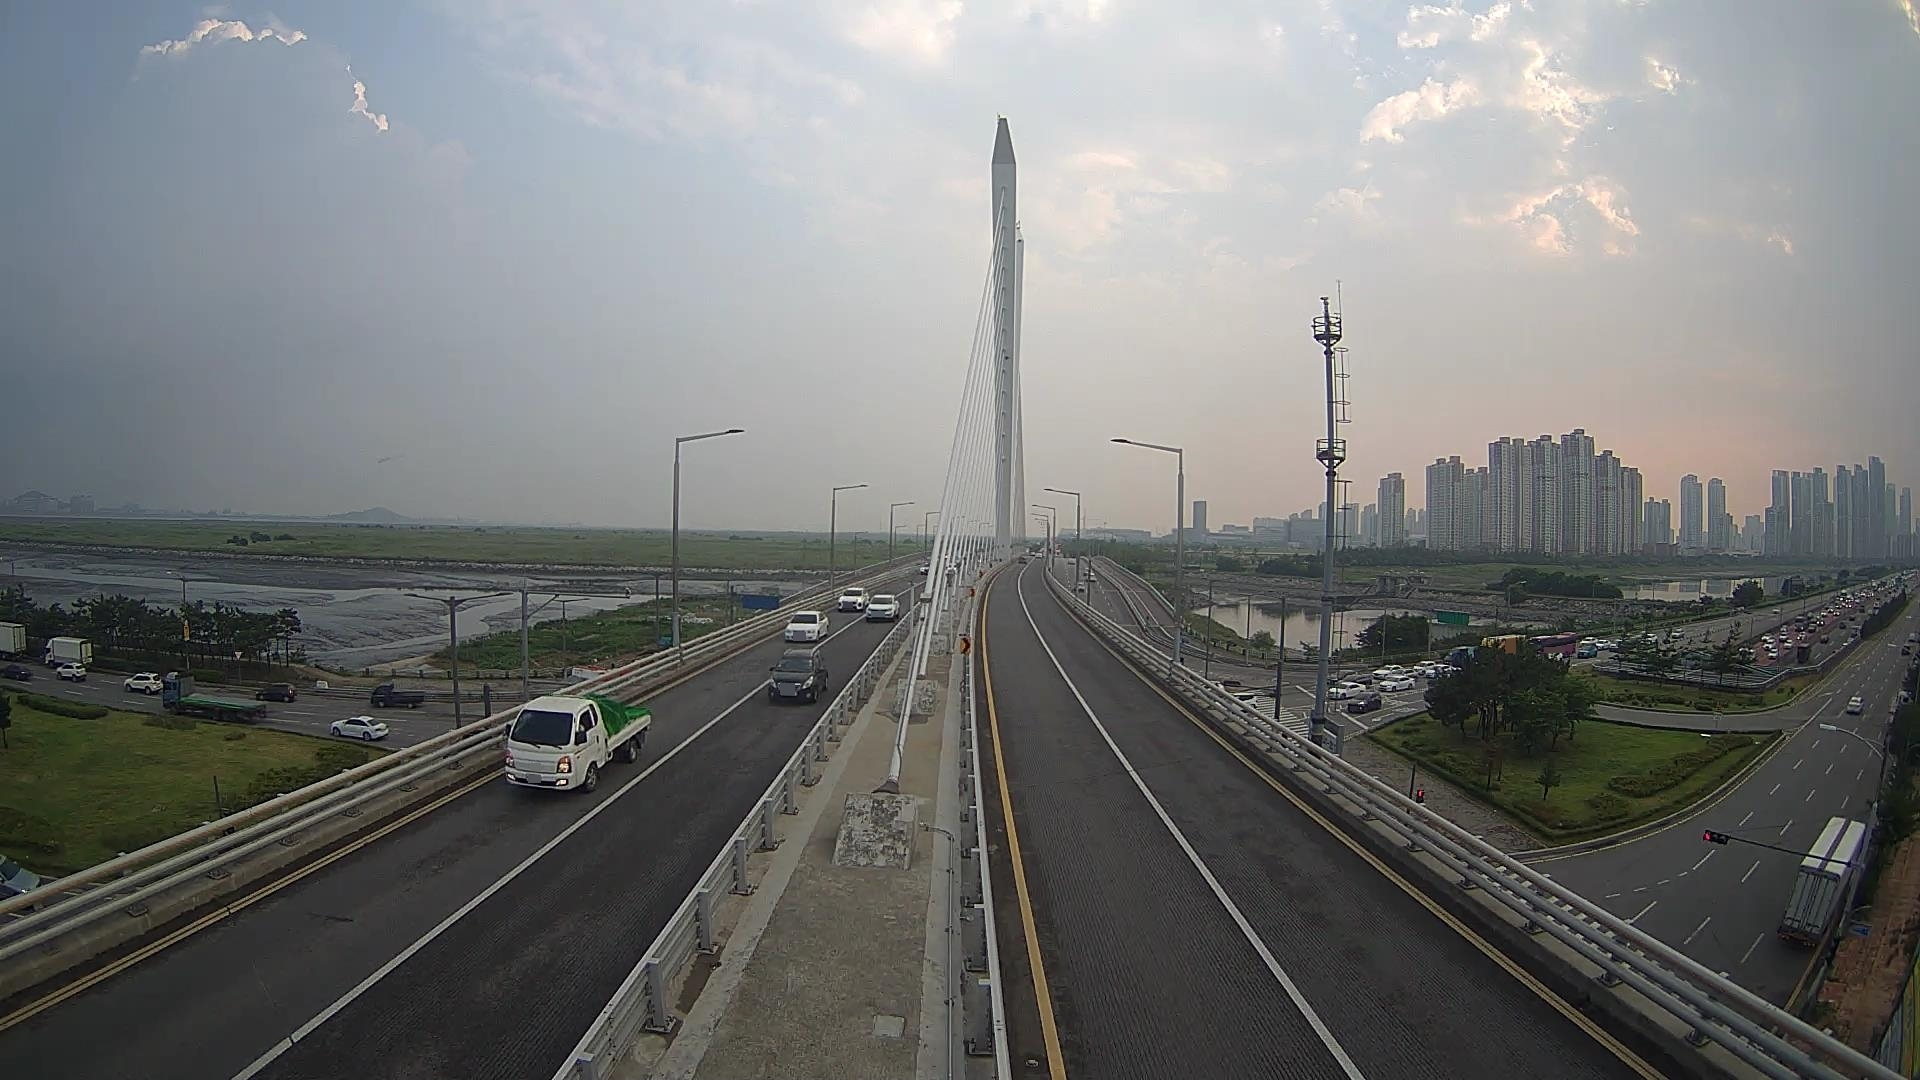정상차량: (504, 695, 653, 793)
